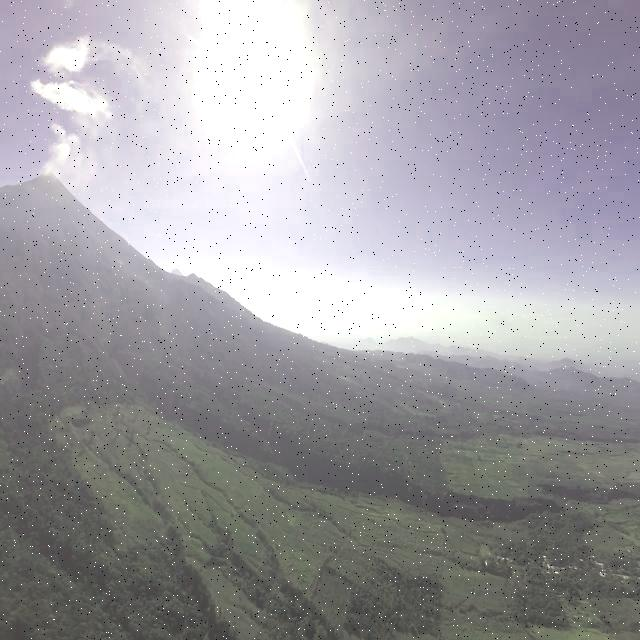Plume: (28, 77, 112, 116), (41, 117, 81, 182), (40, 32, 94, 76)
Summit: (32, 168, 64, 193)
